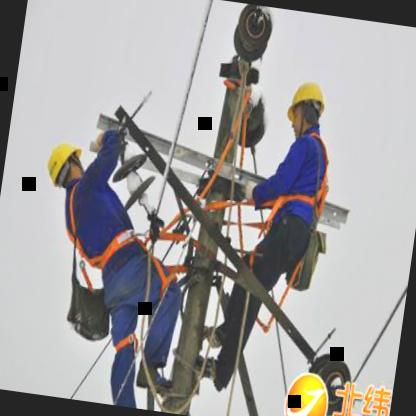helmet: (280, 70, 331, 143), (42, 134, 89, 192)
